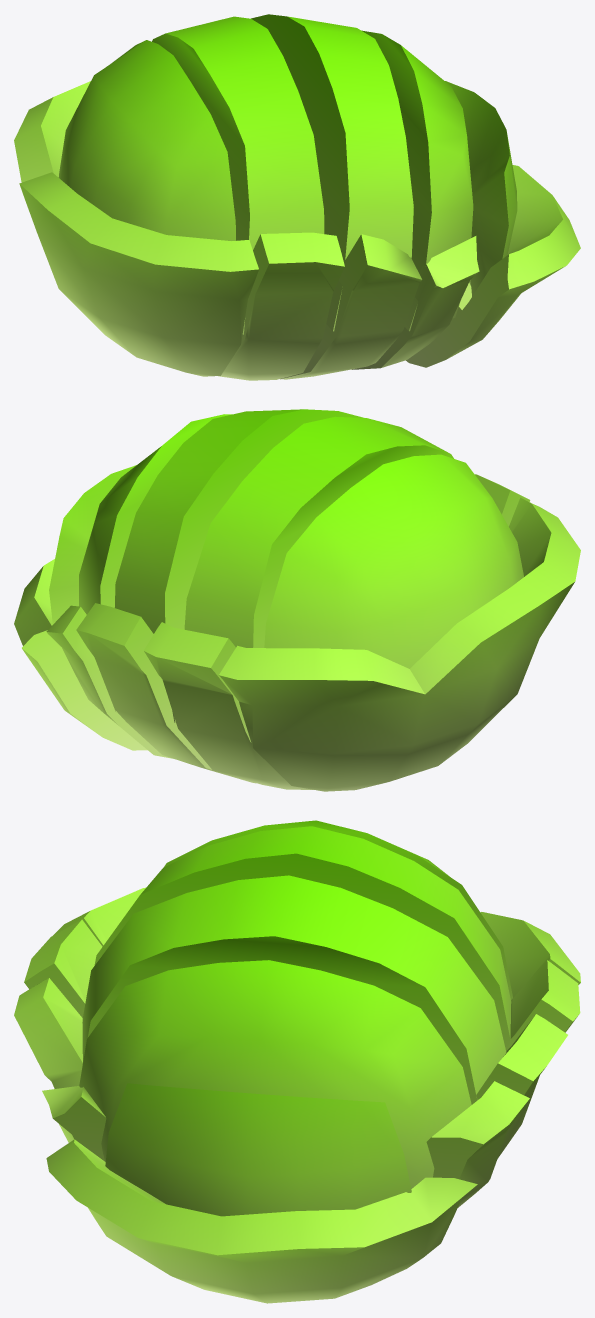
File: Lettuce_01_S4.fbx
3 views of the same model, one above another, from view 1: azimuth 30°, elevation 25°; view 2: azimuth 150°, elevation 25°; view 3: azimuth 270°, elevation 25° (orthographic). The views are drawn at different scales.
Visible parts, largest first — view 1: Lettuce_01_S4; view 2: Lettuce_01_S4; view 3: Lettuce_01_S4.
Boxes of the visible parts, x1,y1,x2,y2 form: Lettuce_01_S4: [14, 14, 580, 380]; Lettuce_01_S4: [14, 409, 580, 791]; Lettuce_01_S4: [14, 820, 580, 1303].
Bounding box in the file's own units: 71.02 × 46.72 × 63.55.
